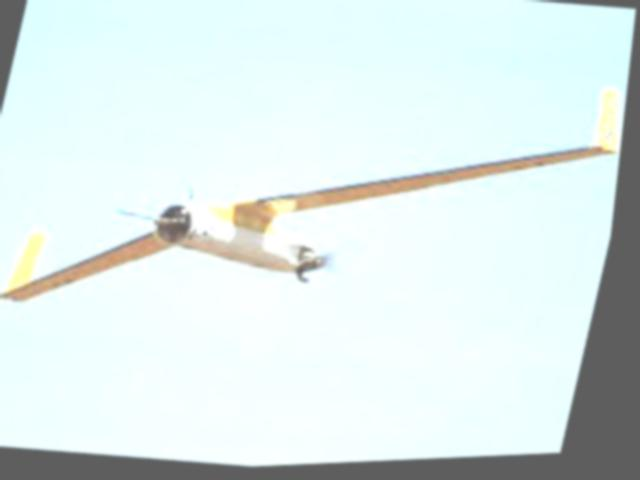uav: (0, 18, 637, 380)
